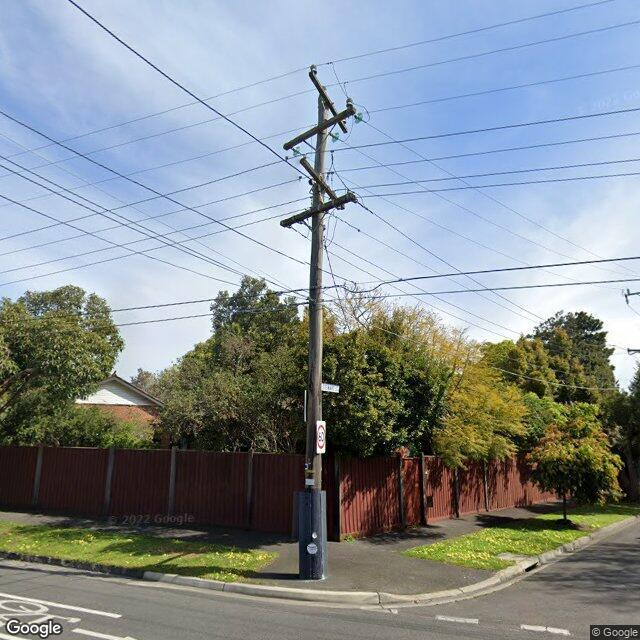HV-transmission: (284, 64, 368, 156)
crossarm: (278, 191, 374, 235), (284, 157, 344, 209), (284, 108, 356, 150), (308, 73, 346, 134)
timber-pole: (301, 95, 328, 580)
